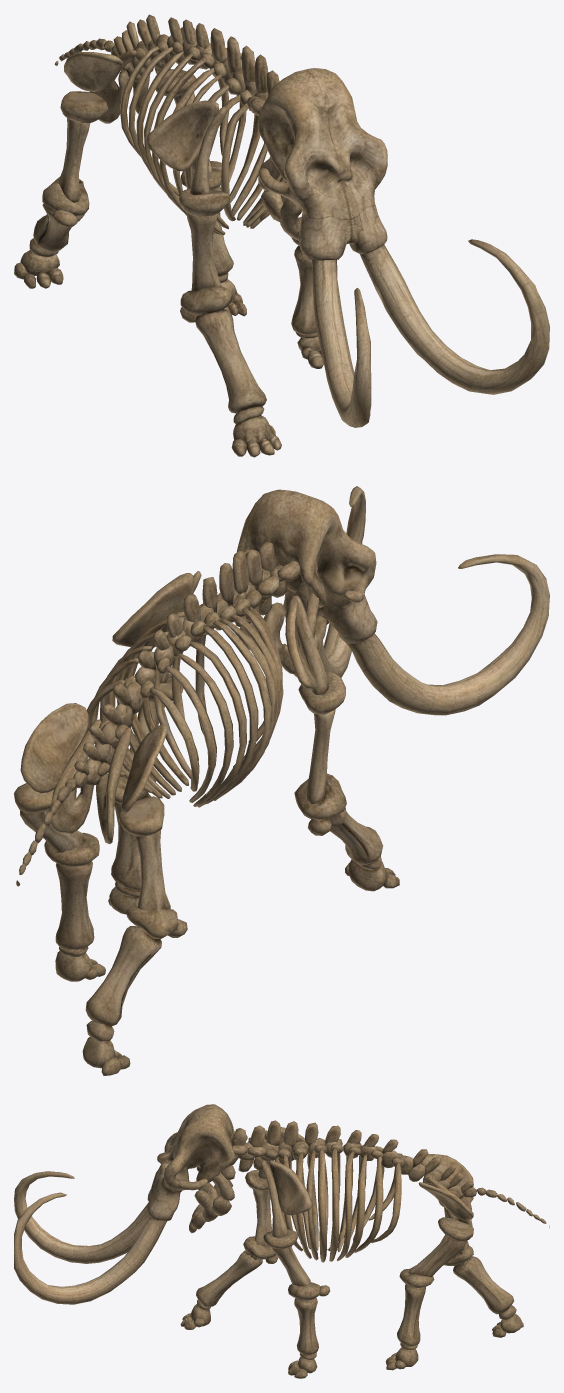
Rendered from mammouth.glb.
3 renders of one model, top to bottom at view 1: azimuth 30°, elevation 25°; view 2: azimuth 150°, elevation 25°; view 3: azimuth 270°, elevation 25°, orthographic. The views are drawn at different scales.
Size of the model in its own units: 0.2838 by 0.4958 by 1.
1 material, 1 textured.
